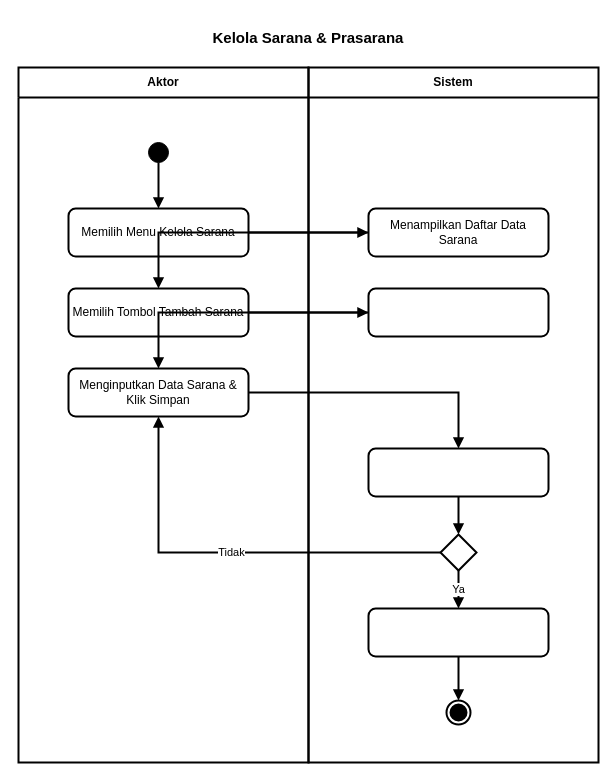
This 616x780 diagram has some shape labels left out. Each missing label, with the centre of its shape:
"Memvalidasi Data" belongs at point (458, 472).
"Menampilkan Form Input" belongs at point (458, 312).
"Menyimpan Data ke Database & Tampilkan Pesan Sukses" belongs at point (458, 632).
